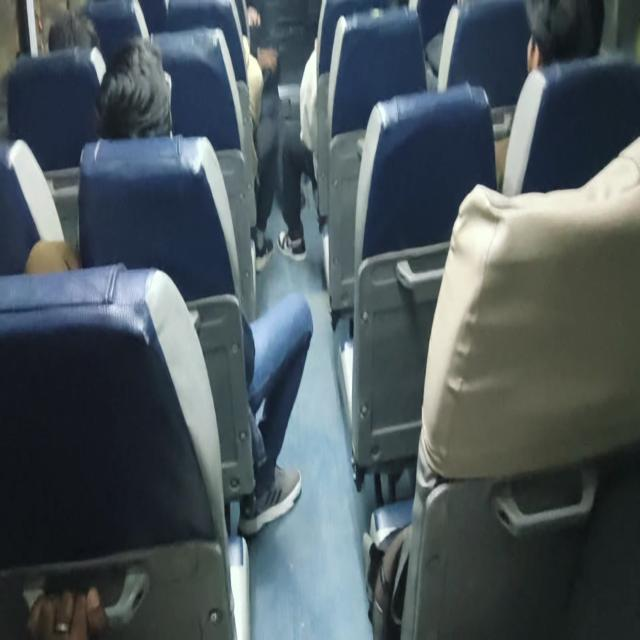person: (25, 35, 314, 537), (276, 0, 406, 262), (493, 0, 605, 188), (276, 37, 322, 262), (94, 36, 173, 140), (26, 583, 110, 638)
